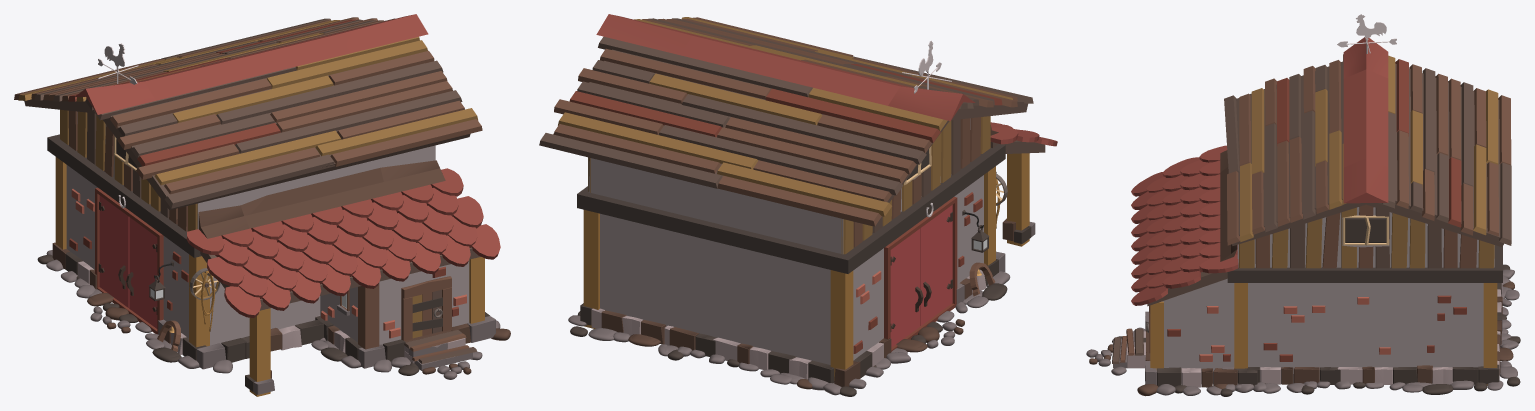
File: Barn 2.fbx
3 renders of one model, left to right at view 1: azimuth 30°, elevation 25°; view 2: azimuth 150°, elevation 25°; view 3: azimuth 270°, elevation 25°, orthographic. The views are drawn at different scales.
Parts seen in each view (by area): view 1: Barn; view 2: Barn; view 3: Barn.
Part boxes in pixels (x1,y1,x2,y2): Barn: [14, 14, 510, 396]; Barn: [539, 14, 1057, 396]; Barn: [1086, 14, 1520, 396].
Size of the model in its own units: 1393 by 1115 by 1691.
